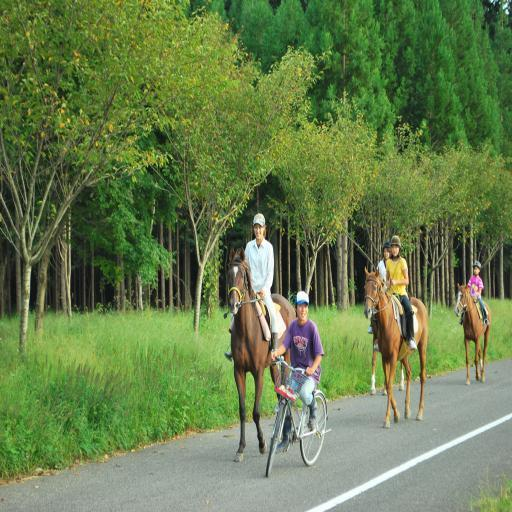horse: (228, 243, 296, 466), (362, 266, 427, 428), (454, 280, 490, 382)
